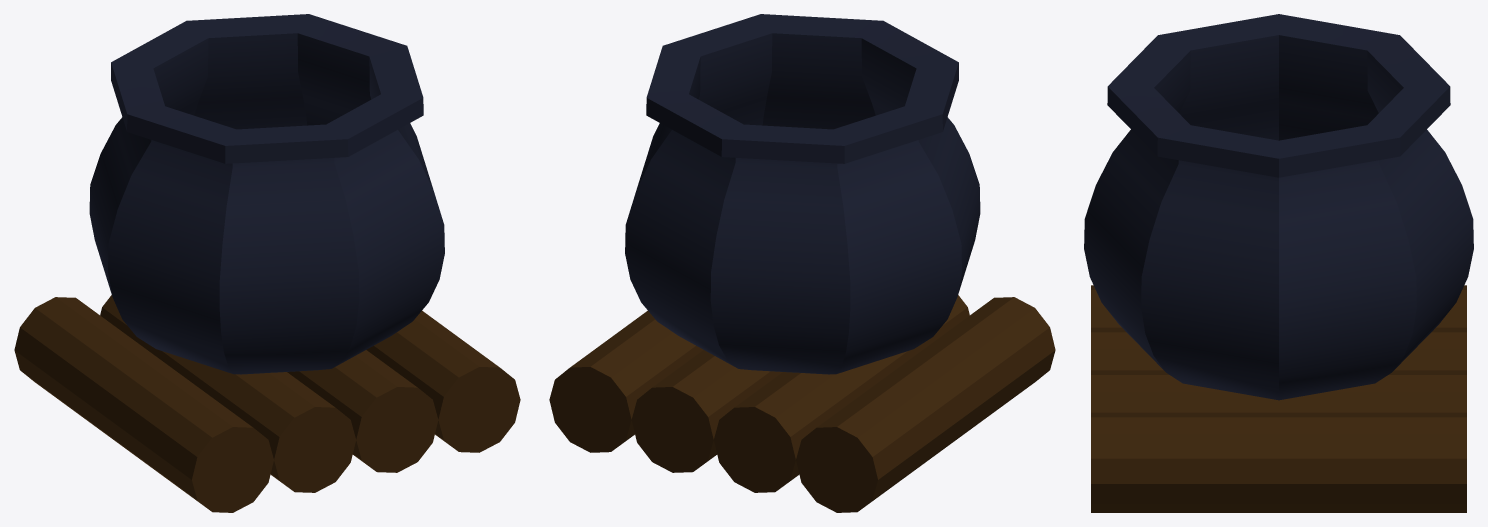
File: cauldron.fbx
3 renders of one model, left to right at view 1: azimuth 30°, elevation 25°; view 2: azimuth 150°, elevation 25°; view 3: azimuth 270°, elevation 25°, orthographic. The views are drawn at different scales.
Parts seen in each view (by area): view 1: Circle, Cylinder; view 2: Circle, Cylinder; view 3: Circle, Cylinder.
Boxes of the visible parts, <box> form: Circle: <box>89,14,444,374</box>; Cylinder: <box>14,295,520,512</box>; Circle: <box>625,14,980,374</box>; Cylinder: <box>549,295,1055,512</box>; Circle: <box>1084,14,1473,400</box>; Cylinder: <box>1091,285,1466,512</box>.
Bounding box in the file's own units: 275 × 270 × 266.
